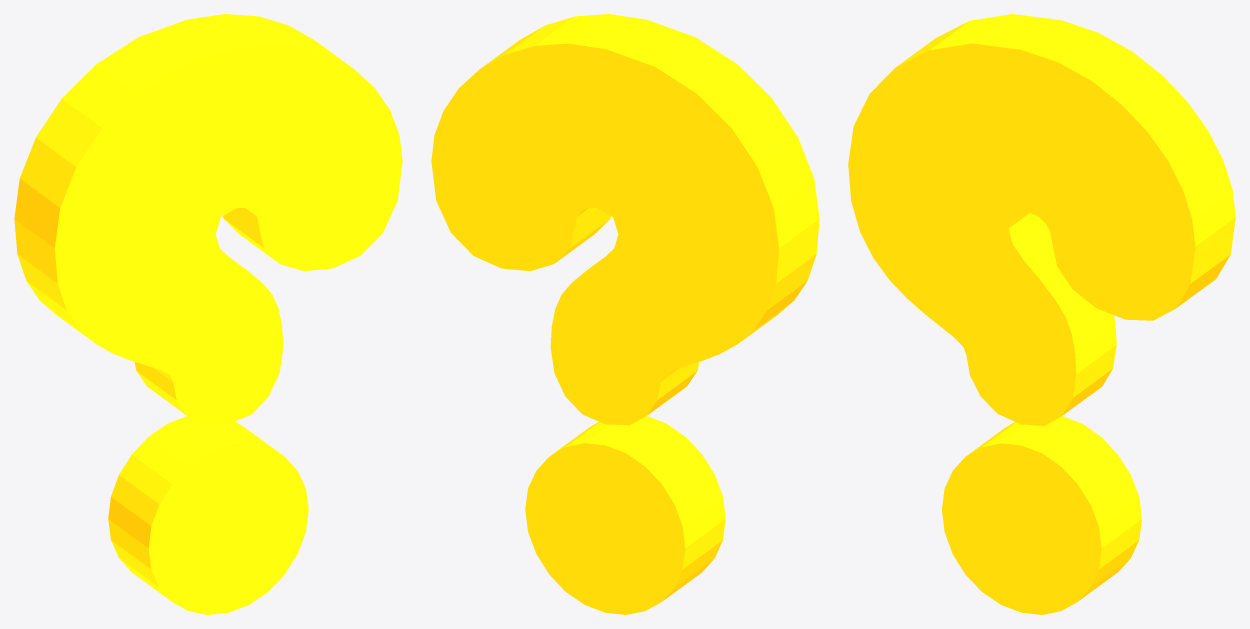
File: questionMark.glb
3 views of the same model, side by side, from view 1: azimuth 30°, elevation 25°; view 2: azimuth 150°, elevation 25°; view 3: azimuth 330°, elevation 25° (orthographic).
Parts seen in each view (by area): view 1: Text.013; view 2: Text.013; view 3: Text.013.
Boxes of the visible parts, x1,y1,x2,y2 form: Text.013: (14, 14, 402, 614); Text.013: (431, 14, 819, 614); Text.013: (848, 14, 1235, 614).
Size of the model in its own units: 0.3409 by 0.5279 by 0.0687.
